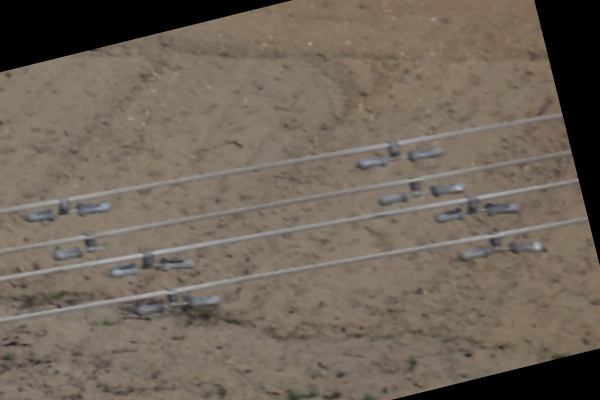damper: (457, 227, 548, 263), (375, 171, 467, 206), (354, 136, 445, 171), (130, 285, 223, 319), (108, 245, 196, 279), (23, 193, 112, 225), (433, 195, 521, 225)
damper_defect: (51, 230, 108, 264)
